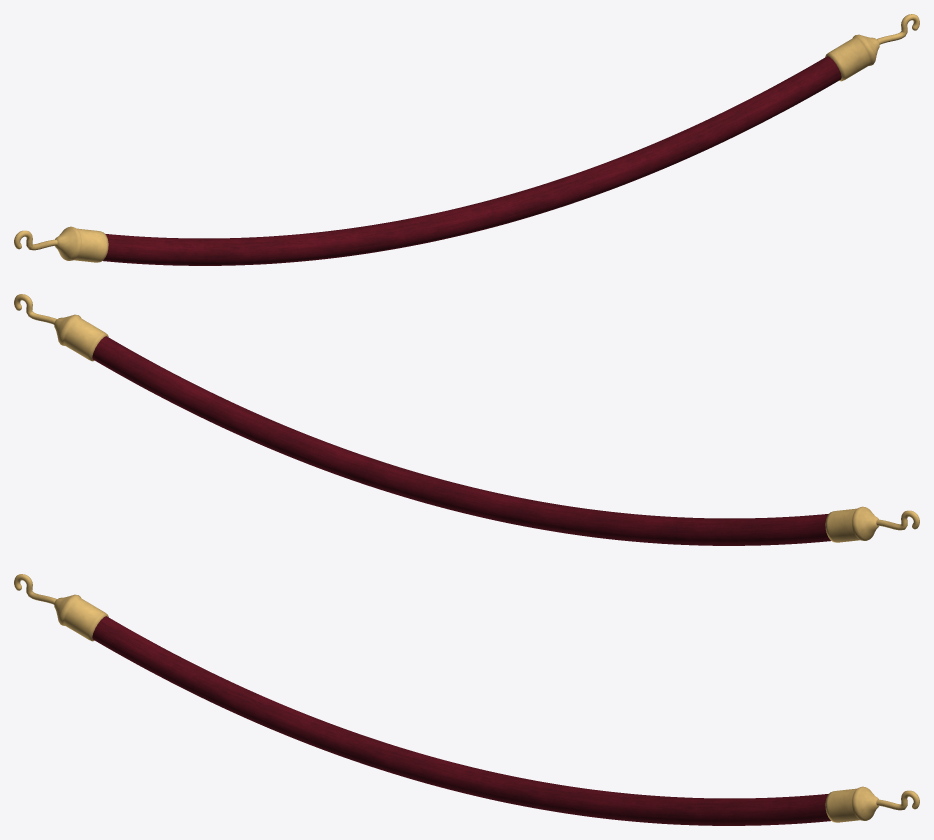
The model's file is bariyer_kadife_halat.glb.
3 renders of one model, top to bottom at view 1: azimuth 30°, elevation 25°; view 2: azimuth 150°, elevation 25°; view 3: azimuth 330°, elevation 25°, orthographic.
Parts seen in each view (by area): view 1: Velvet_Rope, Brass_Fittings; view 2: Velvet_Rope, Brass_Fittings; view 3: Velvet_Rope, Brass_Fittings.
Boxes of the visible parts, x1,y1,x2,y2 form: Velvet_Rope: (103,56,841,265); Brass_Fittings: (14,14,919,262); Velvet_Rope: (92,336,830,545); Brass_Fittings: (14,294,919,542); Velvet_Rope: (92,616,830,825); Brass_Fittings: (14,574,919,822).
Size of the model in its own units: 1.45 by 0.1676 by 0.048.
Materials: 2 (2 with a texture image).
